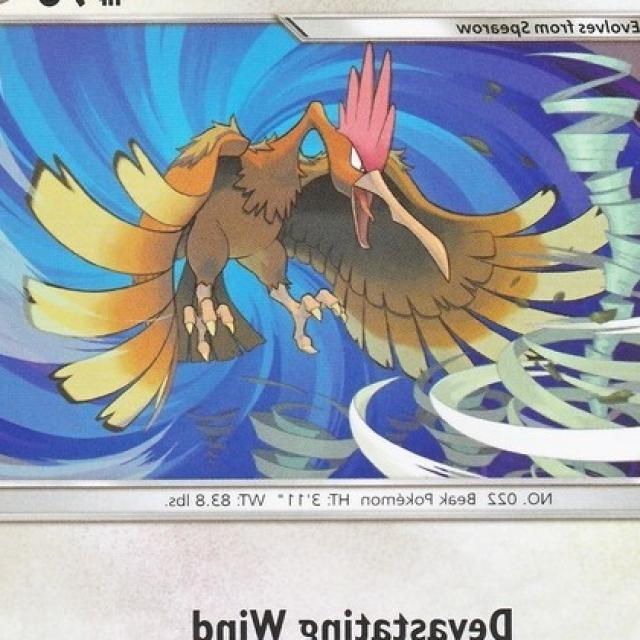Fearow: (86, 65, 487, 378)
